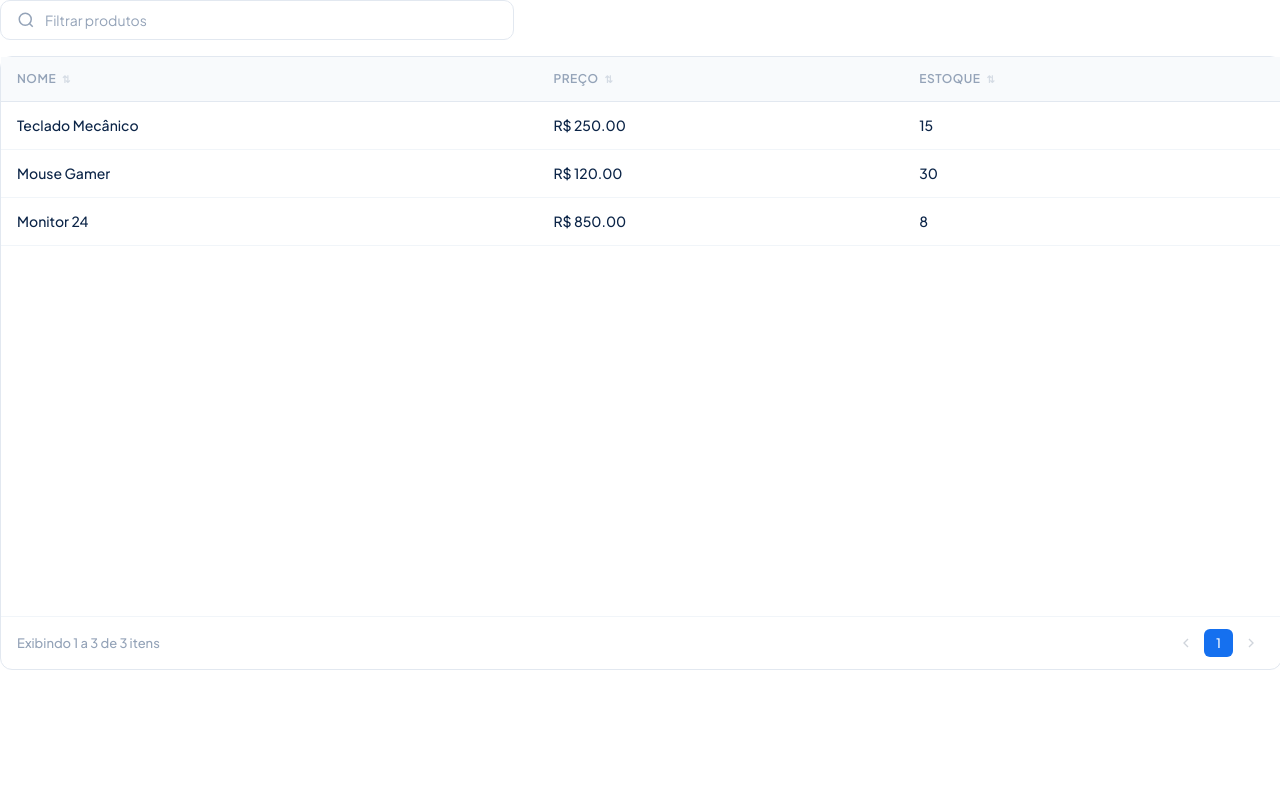
Test: Table component › filtra registros dinamicamente pelo termo de busca
Type "Mouse" into the field with placeholder "Filtrar produtos" at x=271, y=20, box [45,11,497,29]
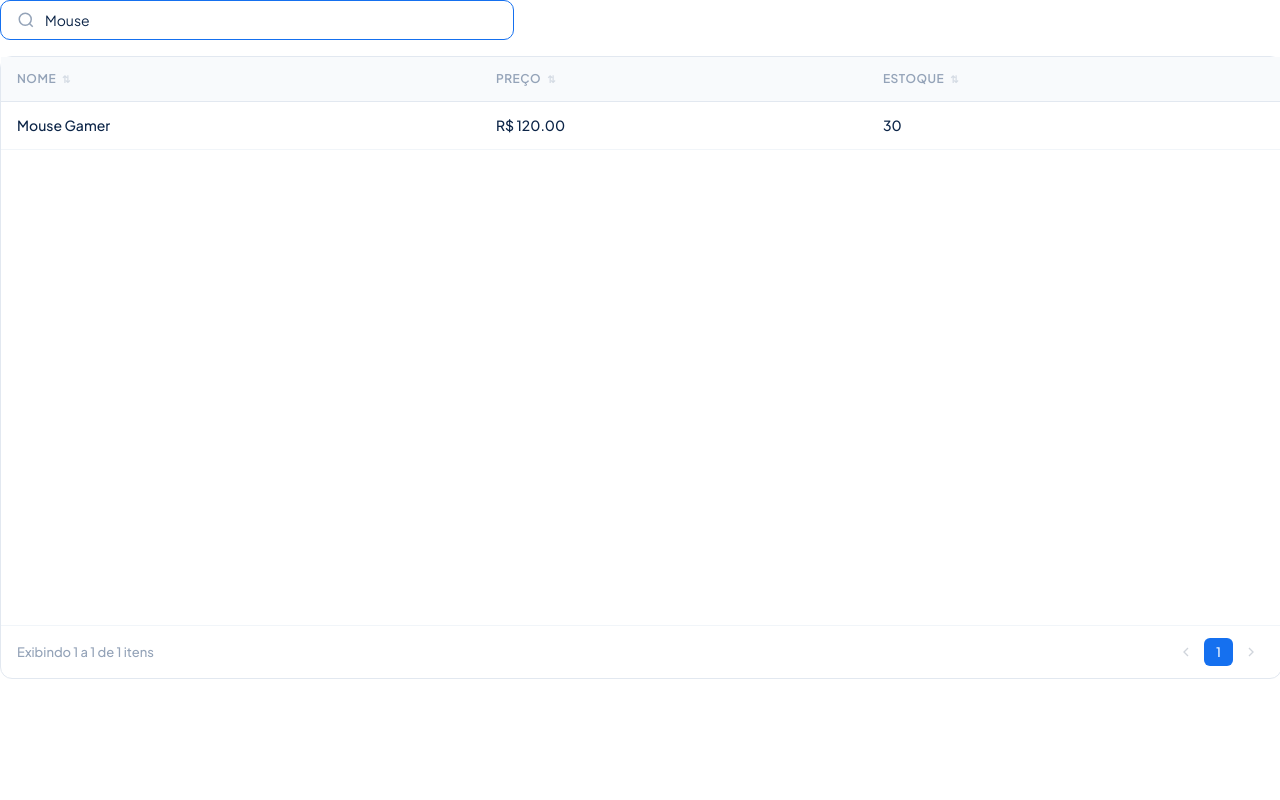
Expected: the text "Mouse Gamer" is shown, [1,101,480,149]
Now the text "Teclado Mecânico" is gone
Now the text "Monitor 24" is gone
